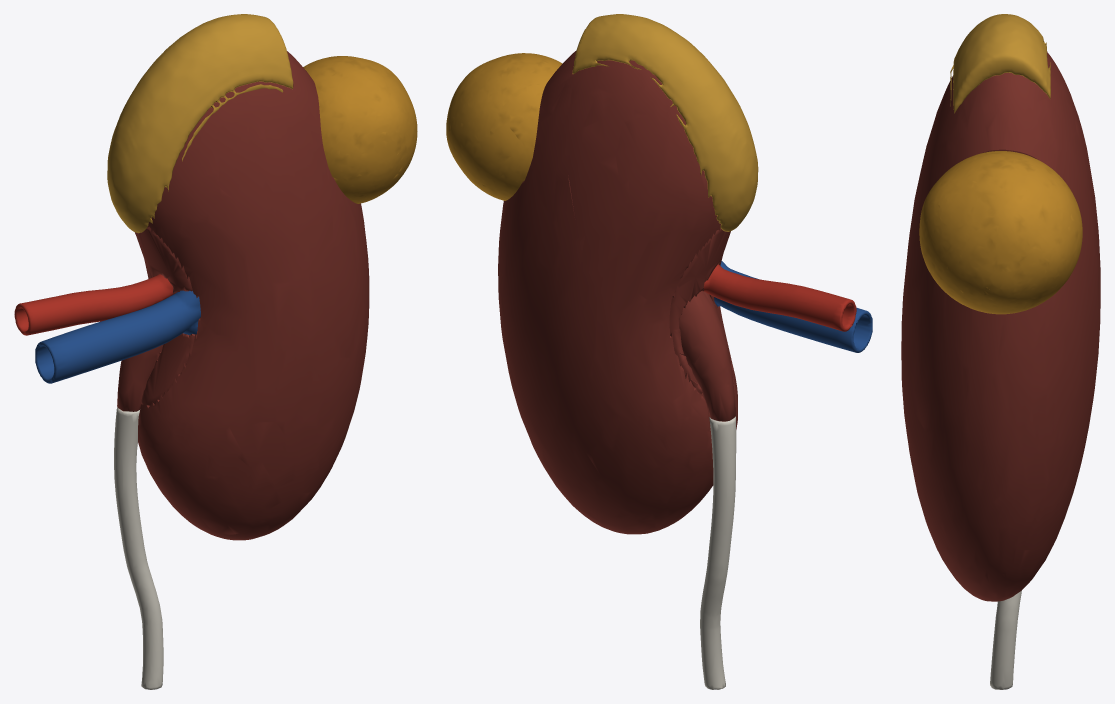
The model's file is kidney_t1a.glb.
3 views of the same model, side by side, from view 1: azimuth 30°, elevation 25°; view 2: azimuth 150°, elevation 25°; view 3: azimuth 270°, elevation 25° (orthographic). The views are drawn at different scales.
Parts seen in each view (by area): view 1: kidney_body, adrenal_gland, tumor, renal_vein, ureter, renal_artery; view 2: kidney_body, adrenal_gland, tumor, ureter, renal_artery, renal_vein; view 3: kidney_body, tumor, adrenal_gland, ureter.
Boxes of the visible parts, x1,y1,x2,y2 form: kidney_body: [117, 51, 369, 540]; adrenal_gland: [107, 14, 293, 233]; tumor: [303, 56, 417, 203]; renal_vein: [35, 290, 200, 383]; ureter: [114, 407, 163, 689]; renal_artery: [14, 274, 175, 335]; kidney_body: [498, 50, 737, 534]; adrenal_gland: [572, 14, 758, 231]; tumor: [446, 53, 562, 200]; ureter: [700, 416, 736, 689]; renal_artery: [701, 264, 856, 331]; renal_vein: [714, 261, 872, 352]; kidney_body: [901, 52, 1100, 601]; tumor: [919, 151, 1082, 314]; adrenal_gland: [950, 14, 1050, 113]; ureter: [990, 590, 1021, 689].
Bounding box in the file's own units: 8.96 × 14.23 × 3.65.
